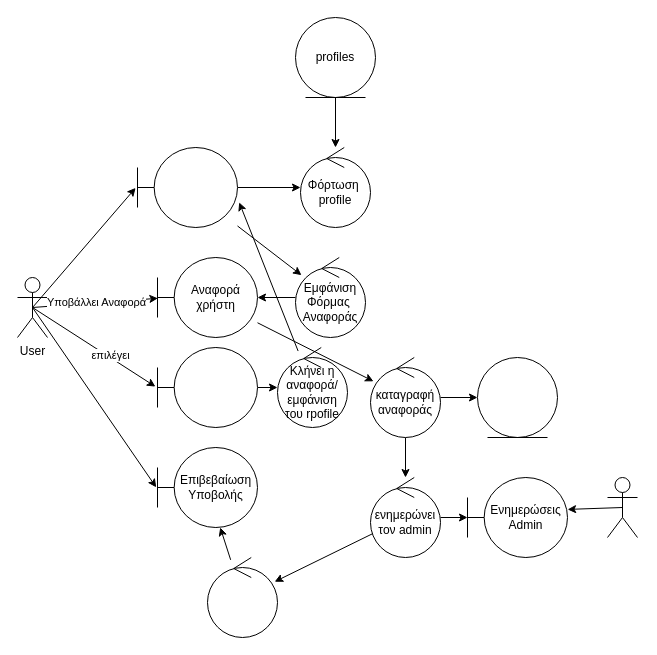
The diagram is 657 pixels wide and 655 high, and some of its shapes have lost their labels. The centre of each missing label's shape, as x and y in pixels:
Admin: the point at 622,507
Profile άλλου χρήστη: the point at 187,187
Ακύροση: the point at 207,387
Αναφορές: the point at 517,397
Εμφάνηση επιβεβαίωσης υποβολής: the point at 242,597
